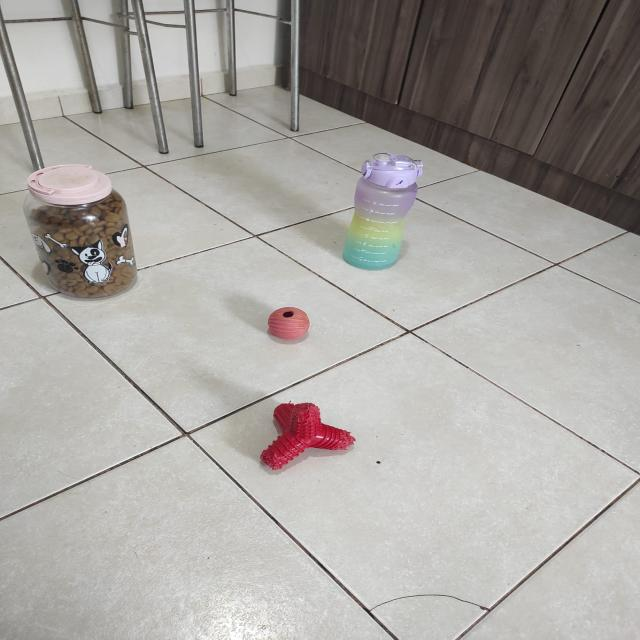bolinha: (256, 299, 320, 350)
brinquedo caro: (231, 395, 369, 475)
garrafinha de agua: (324, 149, 434, 277)
racao: (19, 161, 151, 307)
